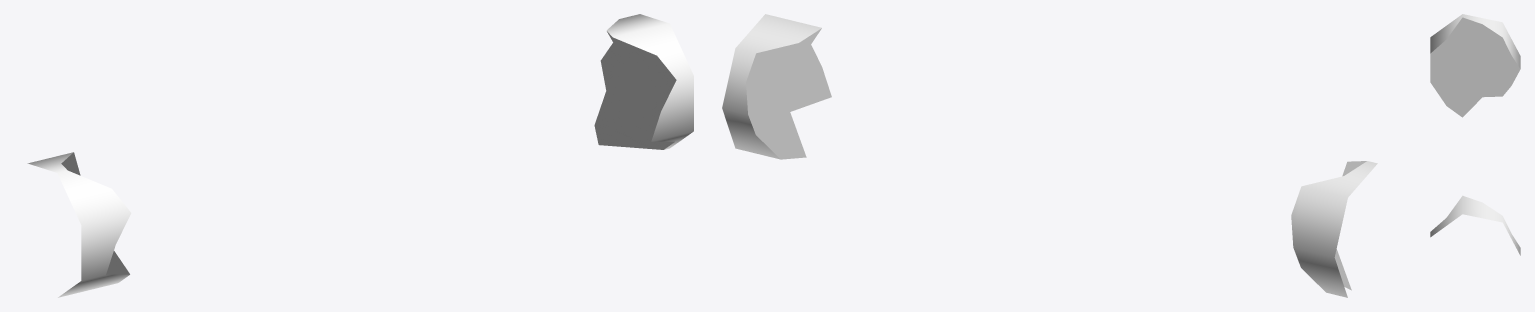
File: robotentacle_busted_2unit_01.glb
3 renders of one model, left to right at view 1: azimuth 30°, elevation 25°; view 2: azimuth 150°, elevation 25°; view 3: azimuth 270°, elevation 25°, orthographic. The views are drawn at different scales.
Parts seen in each view (by area): view 1: ghost_in_machine.robotentacle_busted_2unit_01-Mesh[1], ghost_in_machine.robotentacle_busted_2unit_01-Mesh[0]; view 2: ghost_in_machine.robotentacle_busted_2unit_01-Mesh[1], ghost_in_machine.robotentacle_busted_2unit_01-Mesh[0]; view 3: ghost_in_machine.robotentacle_busted_2unit_01-Mesh[0], ghost_in_machine.robotentacle_busted_2unit_01-Mesh[1].
Part boxes in pixels (x1,y1,x2,y2): ghost_in_machine.robotentacle_busted_2unit_01-Mesh[1]: [27, 14, 693, 297]; ghost_in_machine.robotentacle_busted_2unit_01-Mesh[0]: [61, 31, 676, 274]; ghost_in_machine.robotentacle_busted_2unit_01-Mesh[1]: [722, 14, 1377, 297]; ghost_in_machine.robotentacle_busted_2unit_01-Mesh[0]: [746, 28, 1366, 290]; ghost_in_machine.robotentacle_busted_2unit_01-Mesh[0]: [1430, 17, 1520, 117]; ghost_in_machine.robotentacle_busted_2unit_01-Mesh[1]: [1430, 14, 1520, 255].
Size of the model in its own units: 2 by 0.39 by 0.3802.
1 material, 1 textured.
